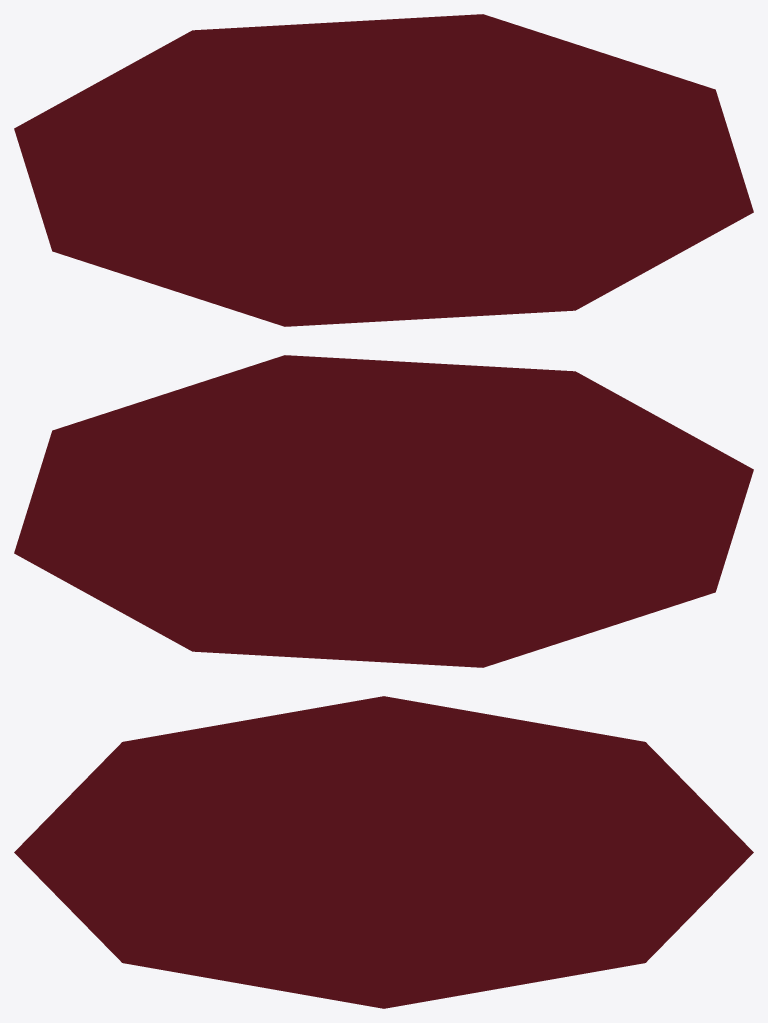
File: RoomFloor.fbx
3 renders of one model, top to bottom at view 1: azimuth 30°, elevation 25°; view 2: azimuth 150°, elevation 25°; view 3: azimuth 270°, elevation 25°, orthographic. The views are drawn at different scales.
Parts seen in each view (by area): view 1: RoomFloor; view 2: RoomFloor; view 3: RoomFloor.
Boxes of the visible parts, x1,y1,x2,y2 form: RoomFloor: (14,14,753,326); RoomFloor: (14,355,753,667); RoomFloor: (14,696,753,1008).
Size of the model in its own units: 1600 by 0.000261 by 1600.
